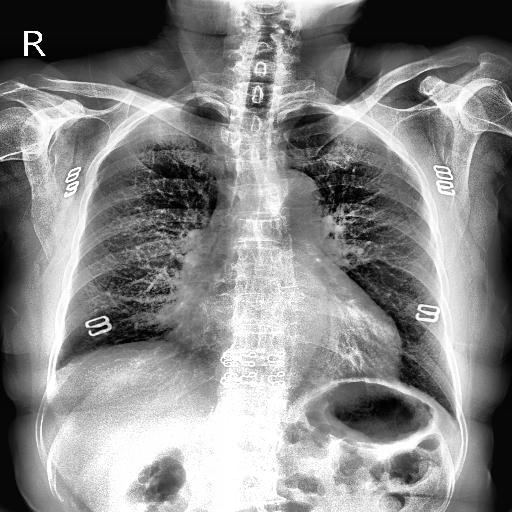0- Aortic enlargement: (262, 174, 326, 232), (266, 172, 324, 228), (262, 168, 320, 218)
10- Pleural effusion: (46, 352, 74, 382)
11- Pleural thickening: (46, 352, 74, 382)
3- Cardiomegaly: (182, 290, 400, 380), (172, 296, 402, 380), (172, 306, 400, 371)
